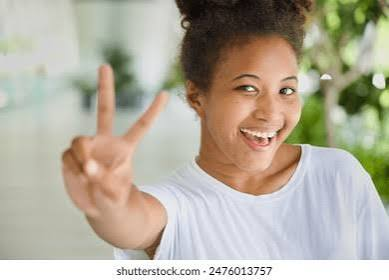peace_sign: (50, 64, 173, 206)
